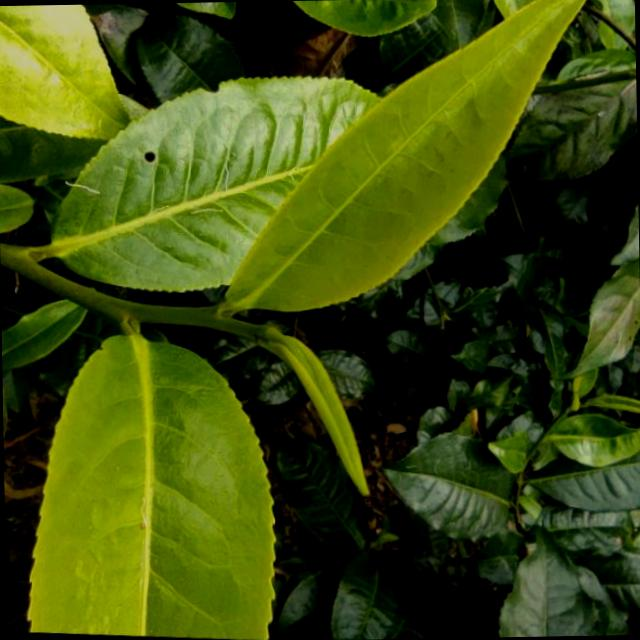Stem: (194, 308, 219, 325)
